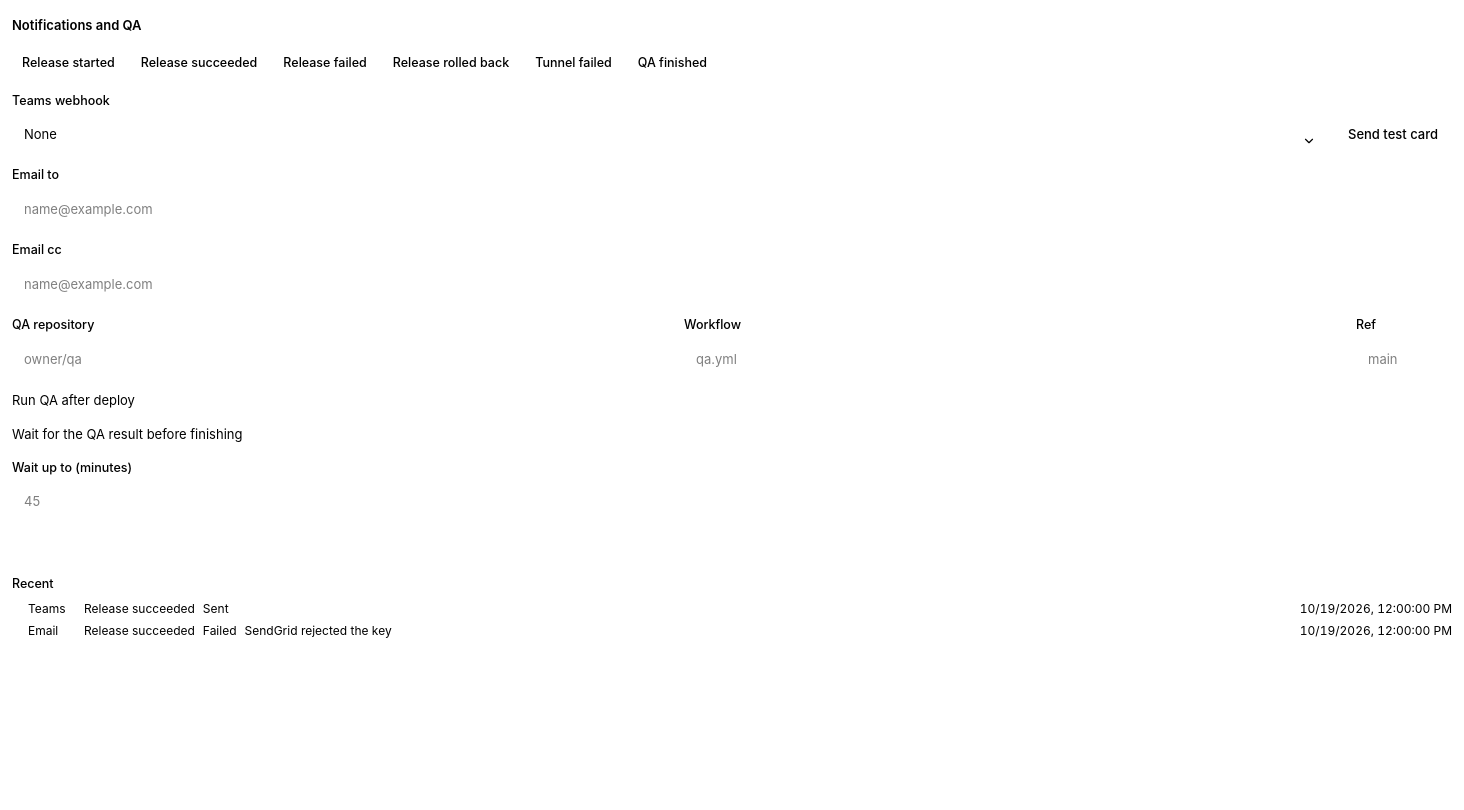
Test: EnvironmentNotifications › invalid email shows inline error
The width and height of the screenshot is (1464, 810).
Step 1. Type "not-an-email" into the field labelled "Email to" → (732, 209), box [12,191,1452,227]
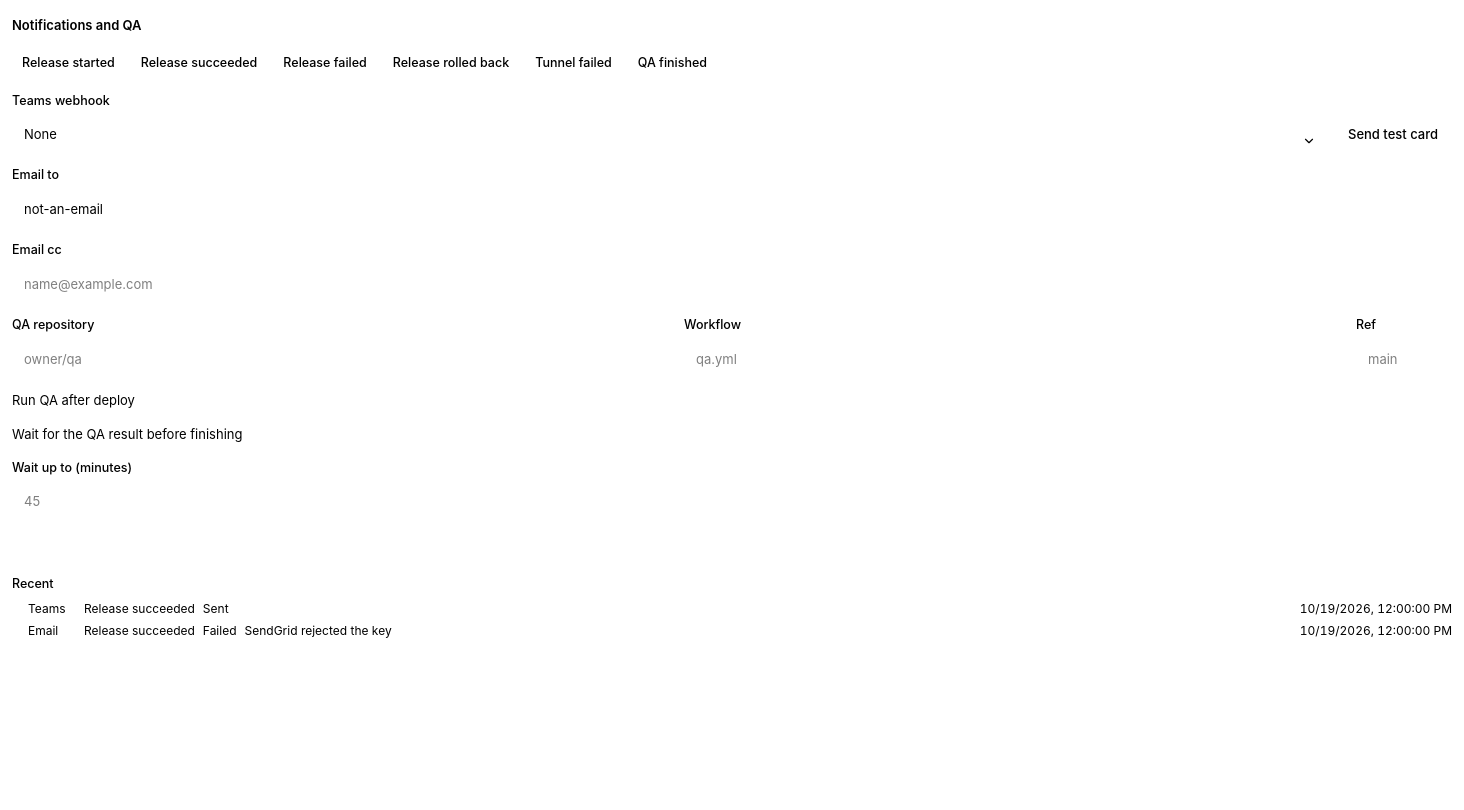
Step 2. Leave the field labelled "Email to", box [12,191,1452,227]
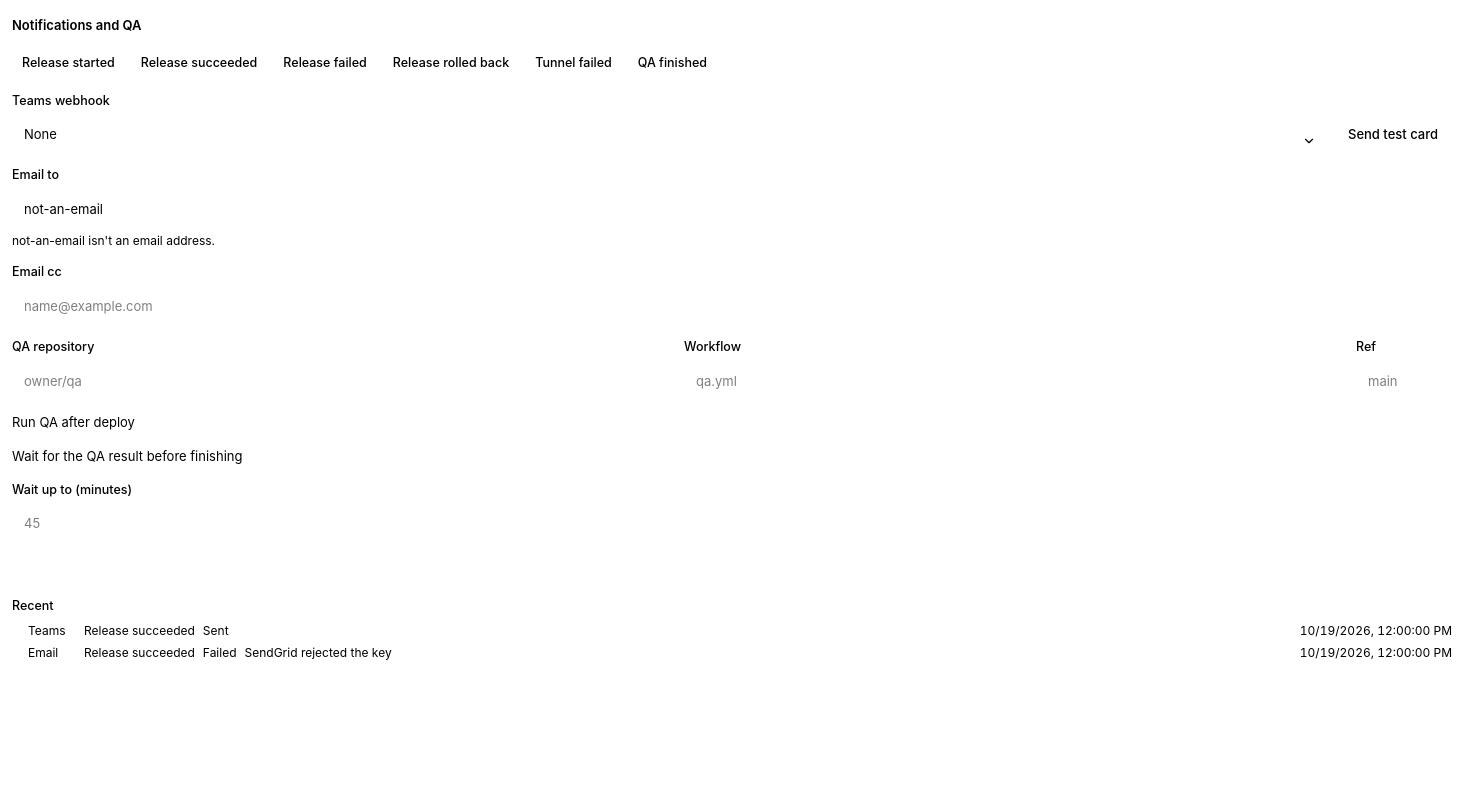
Check: the text "not-an-email isn't an email address." is shown, box [12,233,215,248]
